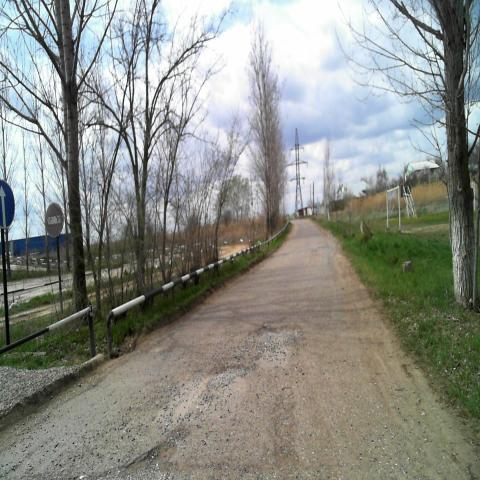3_1: (44, 202, 64, 239)
